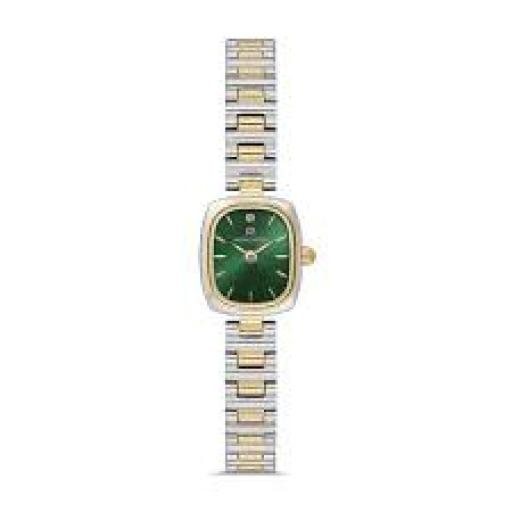KolSaati: (149, 27, 354, 506)
